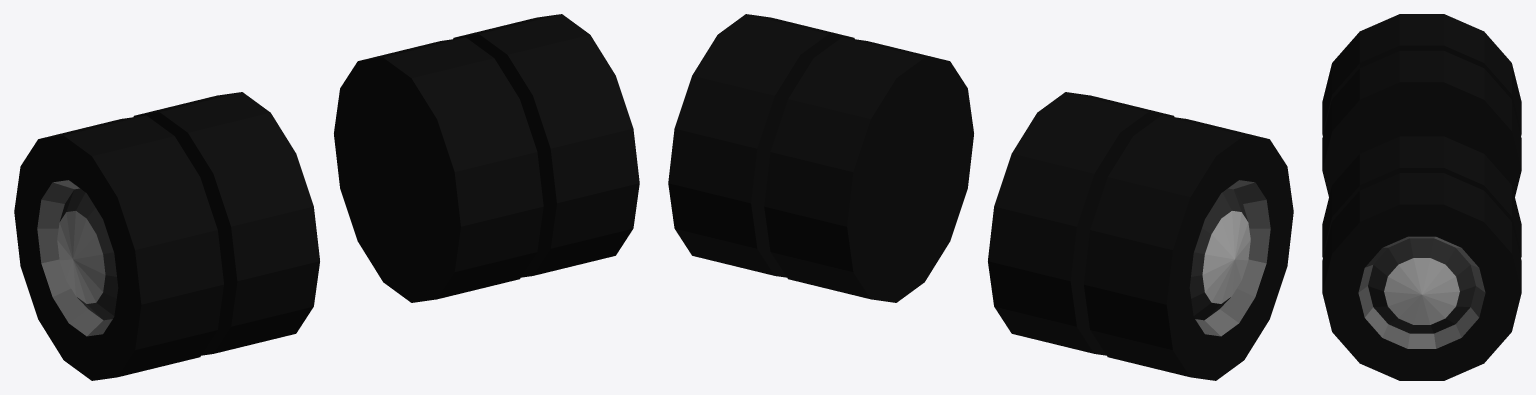
File: WheelTruckBack.fbx
The picture shows the model from 3 angles, left to right: view 1: azimuth 30°, elevation 25°; view 2: azimuth 150°, elevation 25°; view 3: azimuth 270°, elevation 25°; orthographic projection. The views are drawn at different scales.
Parts seen in each view (by area): view 1: WheelTruckBack; view 2: WheelTruckBack; view 3: WheelTruckBack.
Part boxes in pixels (x1,y1,x2,y2): WheelTruckBack: (14, 14, 639, 380); WheelTruckBack: (668, 14, 1293, 380); WheelTruckBack: (1322, 14, 1521, 380).
Size of the model in its own units: 1.74 by 0.7366 by 0.7556.
